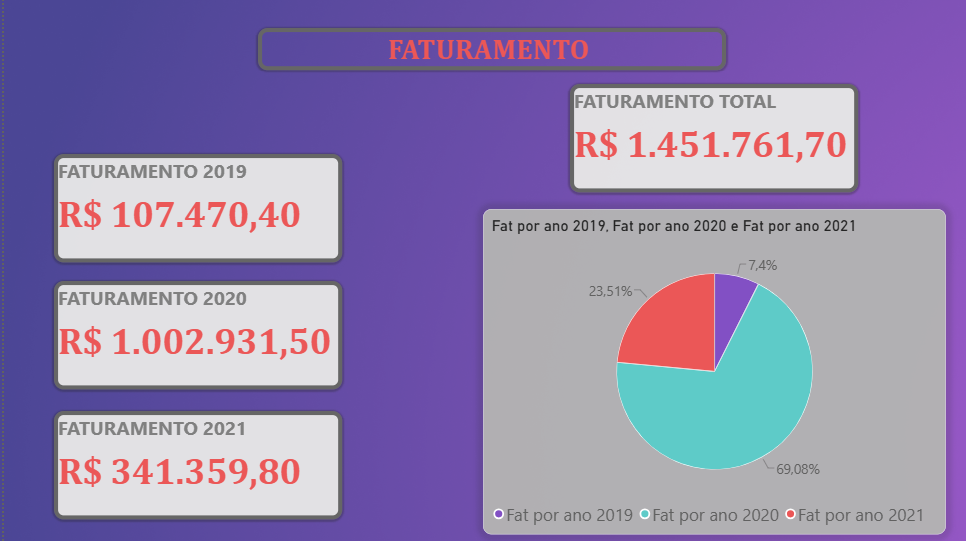

The page's visual inventory and layout, read from the dashboard file:
{"tool":"powerbi","page":{"name":"Faturamento","canvas":[1920,1080],"ordinal":0},"visuals":[{"type":"pieChart","fields":{"Y":["logistica trat (2).Fat por ano 2019","logistica trat (2).Fat por ano 2020","logistica trat (2).Fat por ano 2021"]},"box":[939.6,423.4,909.4,639.4],"z":0},{"type":"textbox","box":[99.1,315.9,565.7,212.6],"z":1000},{"type":"textbox","box":[99.1,565.7,565.7,212.6],"z":2000},{"type":"textbox","box":[99.1,821.7,565.7,212.6],"z":3000},{"type":"textbox","box":[1110.7,179.6,565.7,212.6],"z":4000},{"type":"textbox","box":[499.6,68.1,918.7,82.6],"z":4001}]}

Visuals, with their boxes in screenshot pixels (x1, y1, x2, y2), scaled from the page's 1920x1080 canvas onto the 966x541 screenshot:
pieChart - logistica trat (2).Fat por ano 2019 x logistica trat (2).Fat por ano 2020: x1=473 y1=212 x2=930 y2=532
textbox: x1=50 y1=158 x2=334 y2=265
textbox: x1=50 y1=283 x2=334 y2=390
textbox: x1=50 y1=412 x2=334 y2=518
textbox: x1=559 y1=90 x2=843 y2=196
textbox: x1=251 y1=34 x2=714 y2=75
